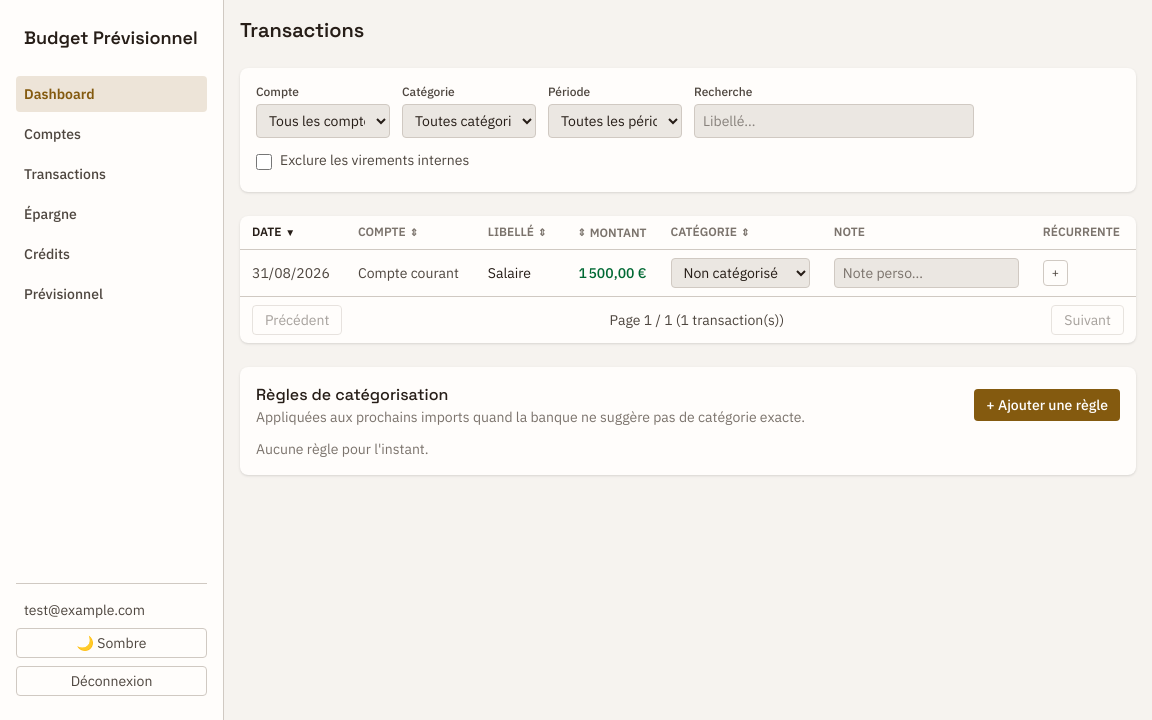
Test: TransactionsPage › creates a recurring income pre-filled from an income transaction on confirm
Check: the text "Salaire" is shown, box [476,249,562,296]
Click the button named "Marquer Salaire comme revenu récurrent": (1055, 273) [1043,260,1068,286]
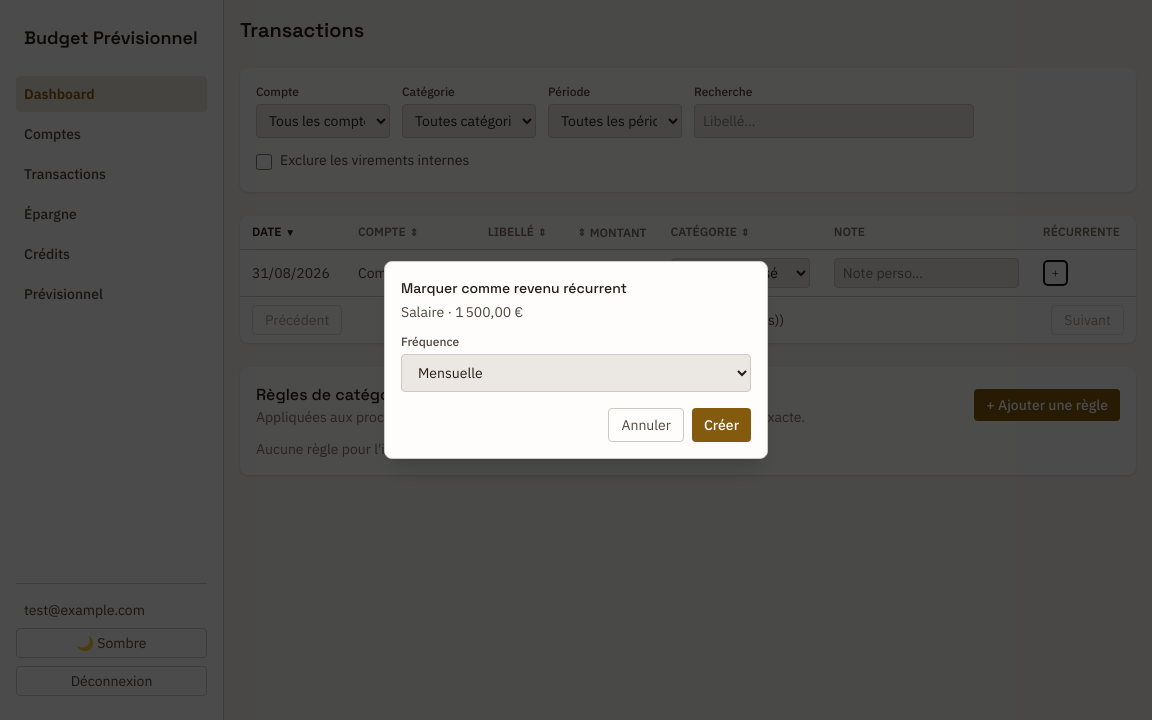
Check: the heading "Marquer comme revenu récurrent" is shown, box [401,279,627,297]
Click the button "Créer": (721, 425) [692,408,751,442]
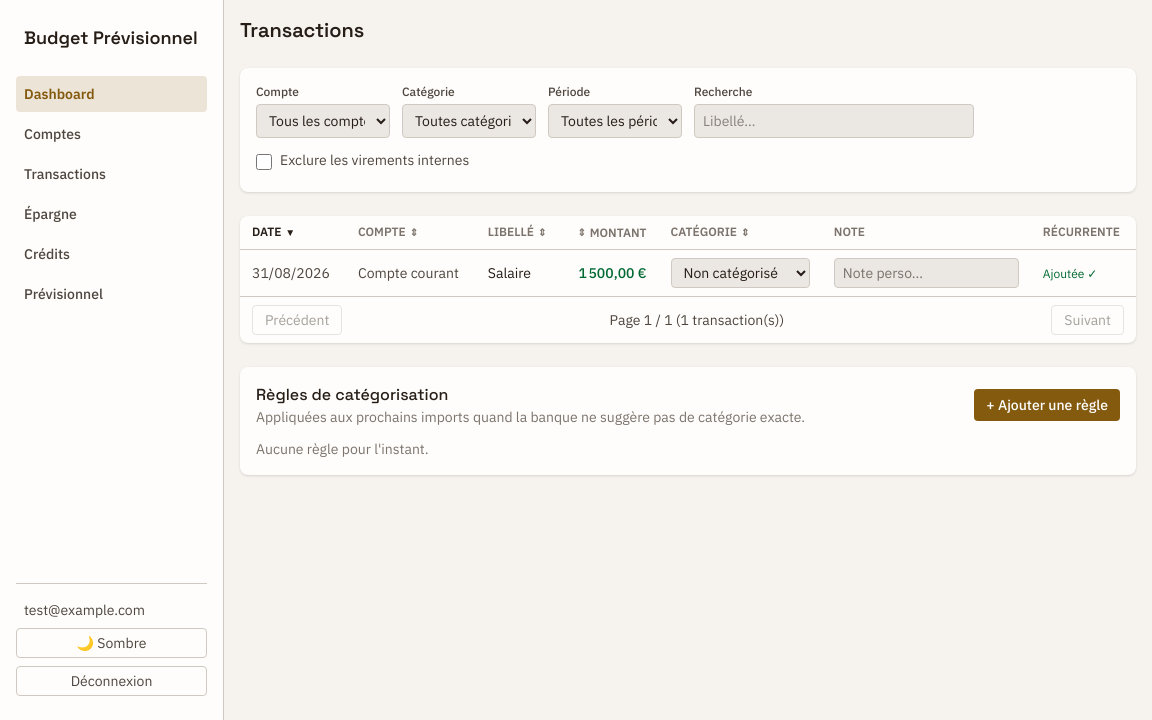
Check: the text "Ajoutée ✓" is shown, box [1043,266,1097,281]
